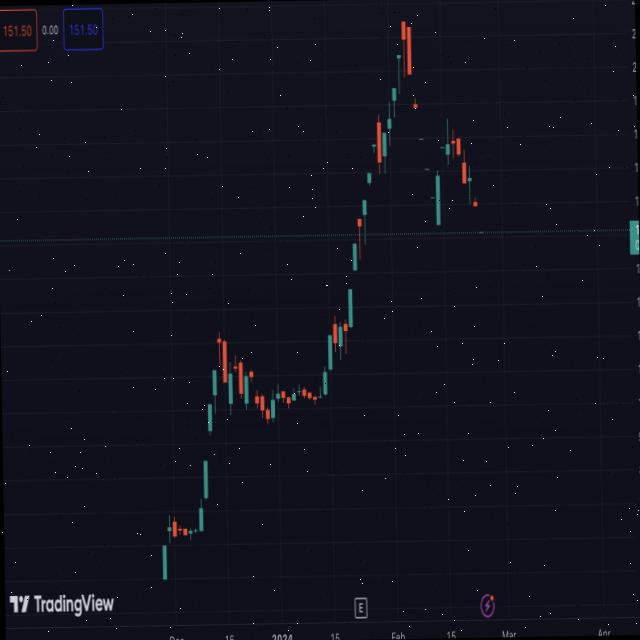Gap Down: (402, 19, 440, 227), (248, 350, 262, 418)
Gap Up: (198, 402, 221, 508), (343, 233, 363, 341), (360, 138, 380, 234)
